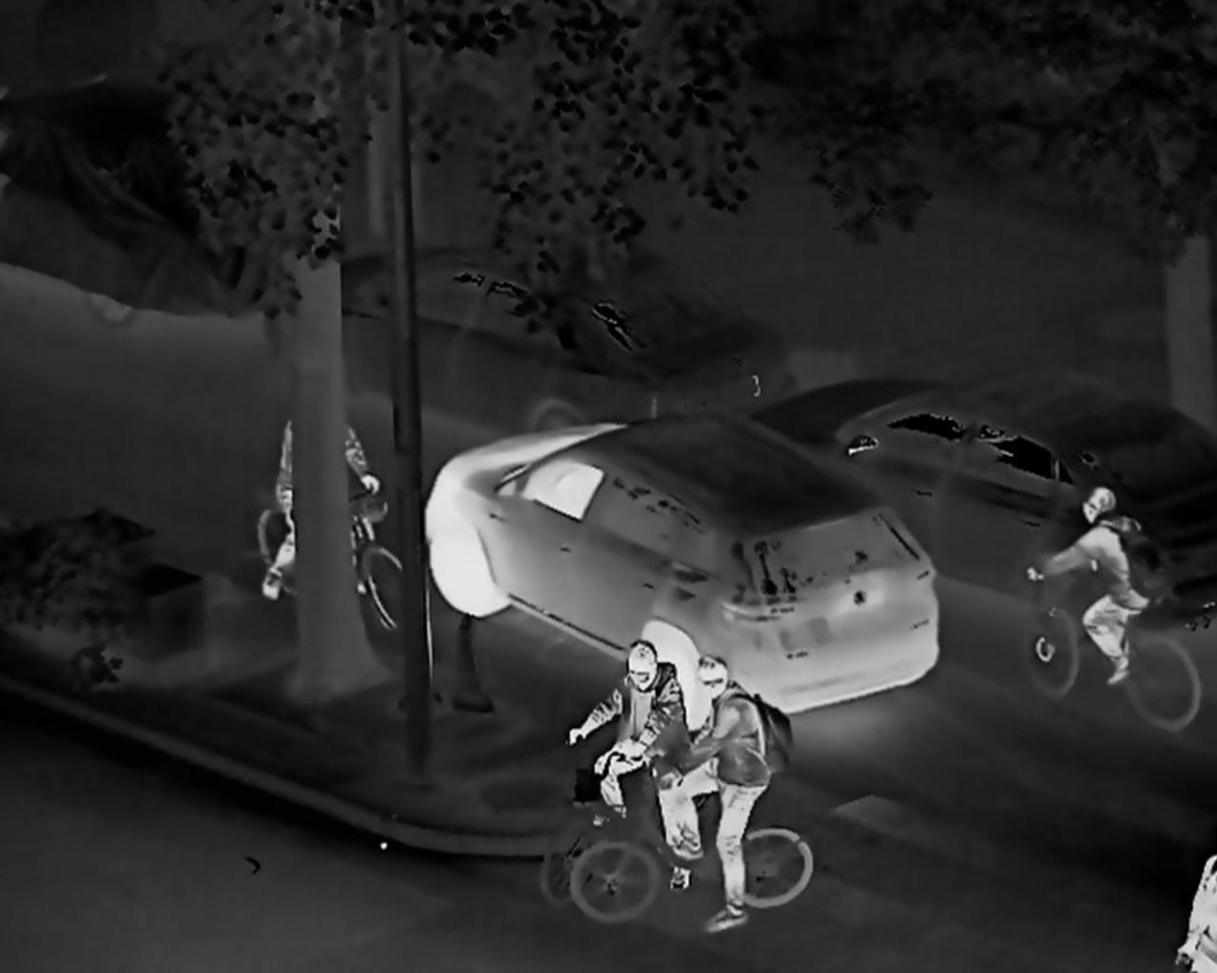person: (566, 624, 689, 893), (258, 392, 396, 628), (1027, 476, 1171, 690), (674, 639, 770, 941)
